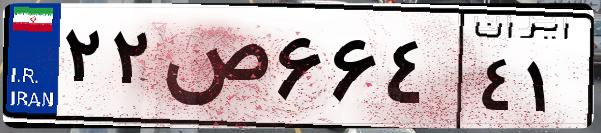1: (525, 38, 570, 115)
2: (57, 26, 110, 100), (110, 28, 158, 98)
4: (385, 28, 445, 110), (475, 38, 525, 113)
6: (270, 28, 330, 110), (330, 28, 385, 110)
ص: (158, 20, 270, 120)
